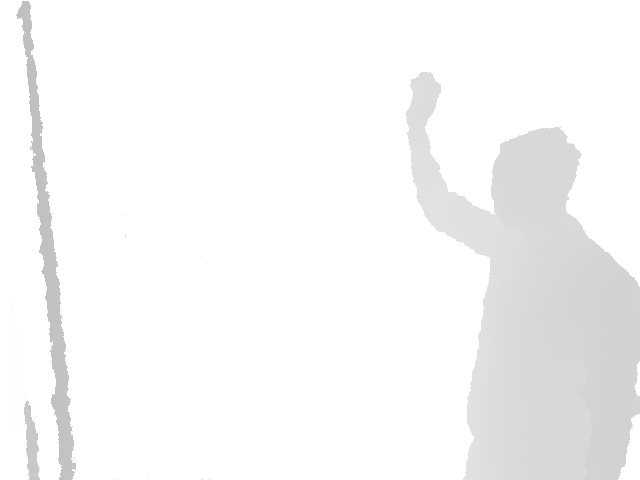hand: (405, 71, 442, 132)
head: (489, 127, 580, 225)
person: (404, 71, 640, 480)
